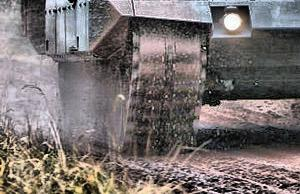tanks: (24, 1, 300, 154)
